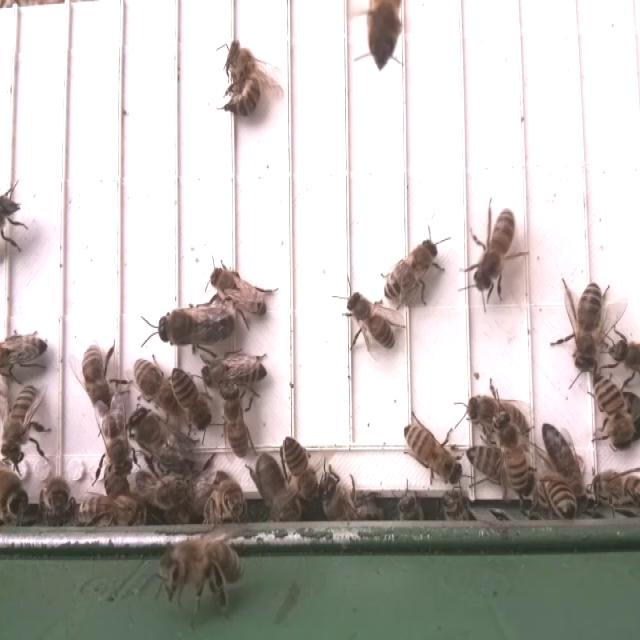Drone: (126, 405, 201, 481), (247, 454, 307, 528), (150, 304, 237, 353)
Worker: (152, 530, 252, 607), (579, 369, 639, 455), (399, 418, 466, 491), (469, 203, 519, 294), (462, 384, 532, 448), (381, 234, 439, 307), (0, 381, 45, 473), (491, 408, 536, 499), (75, 482, 156, 532), (570, 272, 606, 380), (208, 264, 271, 323), (345, 289, 398, 355), (227, 38, 265, 127), (540, 420, 585, 491), (276, 435, 322, 503), (78, 341, 116, 418), (169, 366, 213, 432), (133, 356, 182, 415), (219, 382, 253, 462), (202, 352, 268, 391), (198, 473, 248, 524)
